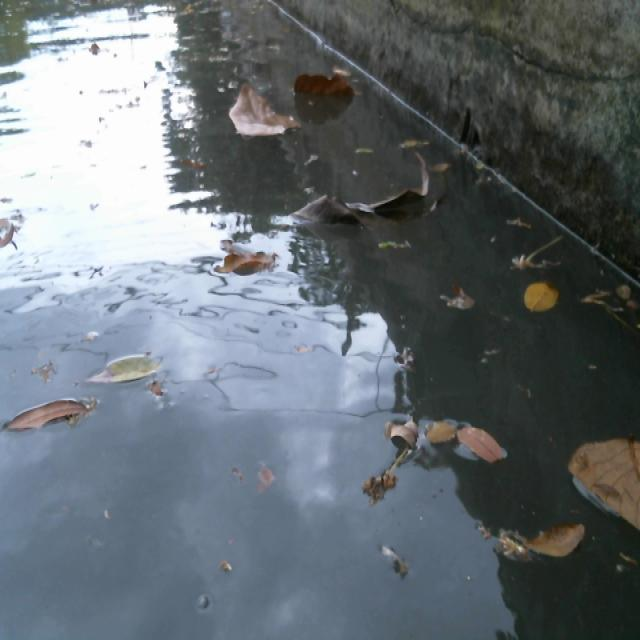Big-leaf: (282, 147, 444, 245), (568, 428, 640, 541), (212, 229, 295, 304), (224, 64, 297, 135), (295, 65, 368, 108)
Small-leaf: (478, 516, 593, 585), (2, 398, 87, 455), (86, 344, 170, 399), (465, 423, 512, 487), (519, 269, 570, 324), (425, 414, 466, 464), (386, 125, 443, 158), (388, 412, 420, 457), (442, 281, 475, 319), (323, 51, 356, 78), (614, 277, 635, 297)
